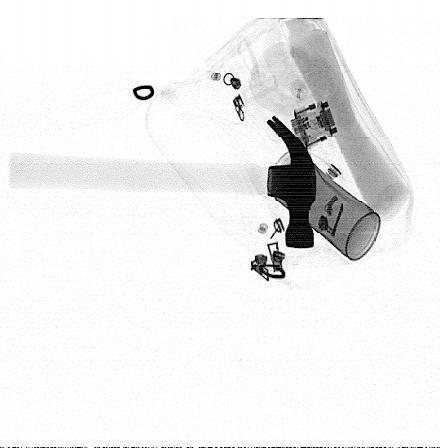Hammer: (9, 114, 317, 248)
